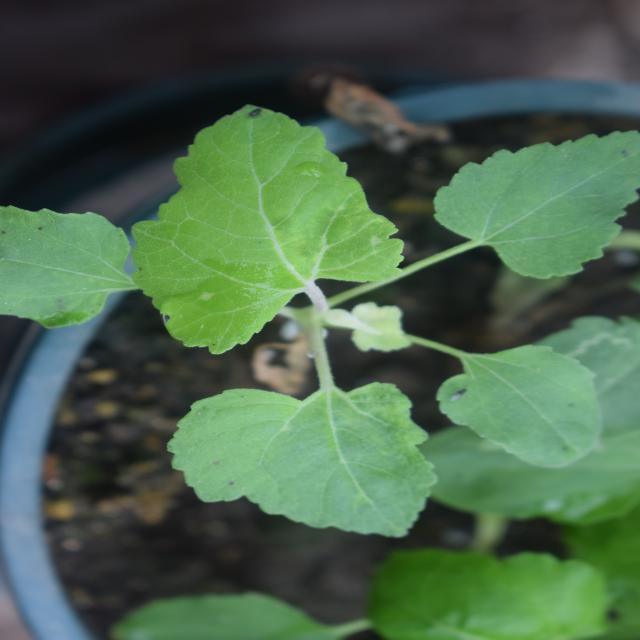cocklebur: (114, 0, 527, 595)
